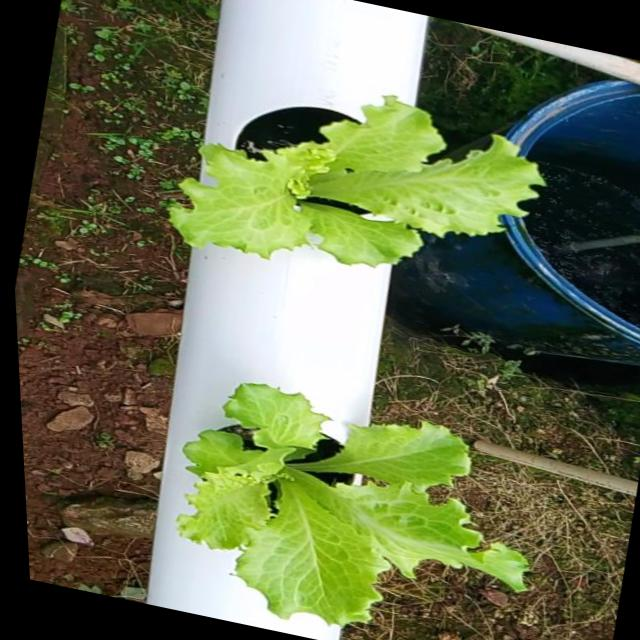Baby: (173, 382, 526, 626), (168, 91, 544, 263)
